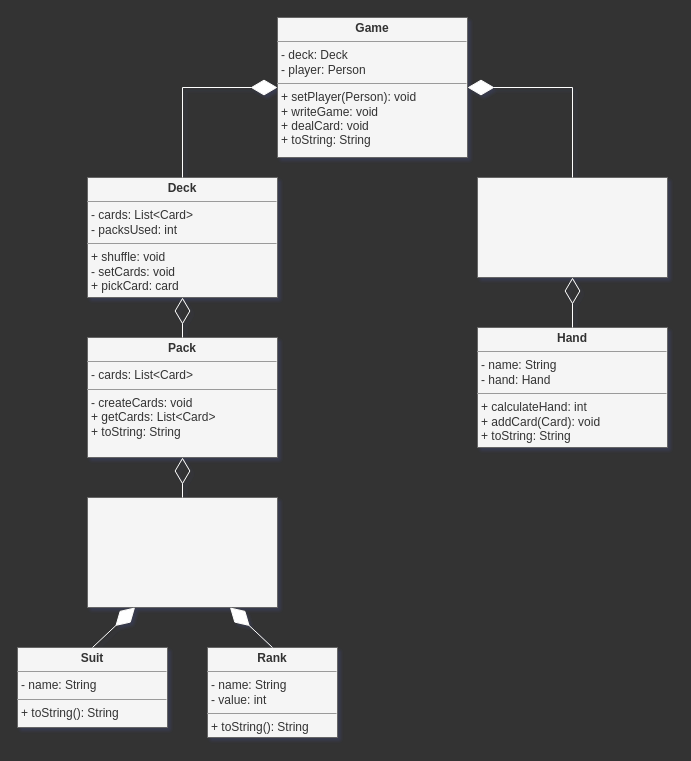
This 691x761 diagram has some shape labels left out. Each missing label, with the box of its shape:
Card - suit: Suit - rank: Rank - value: int + toString(): String: (86, 496, 278, 608)
Player - name: String - hand: Hand + toString: String: (476, 176, 668, 278)
